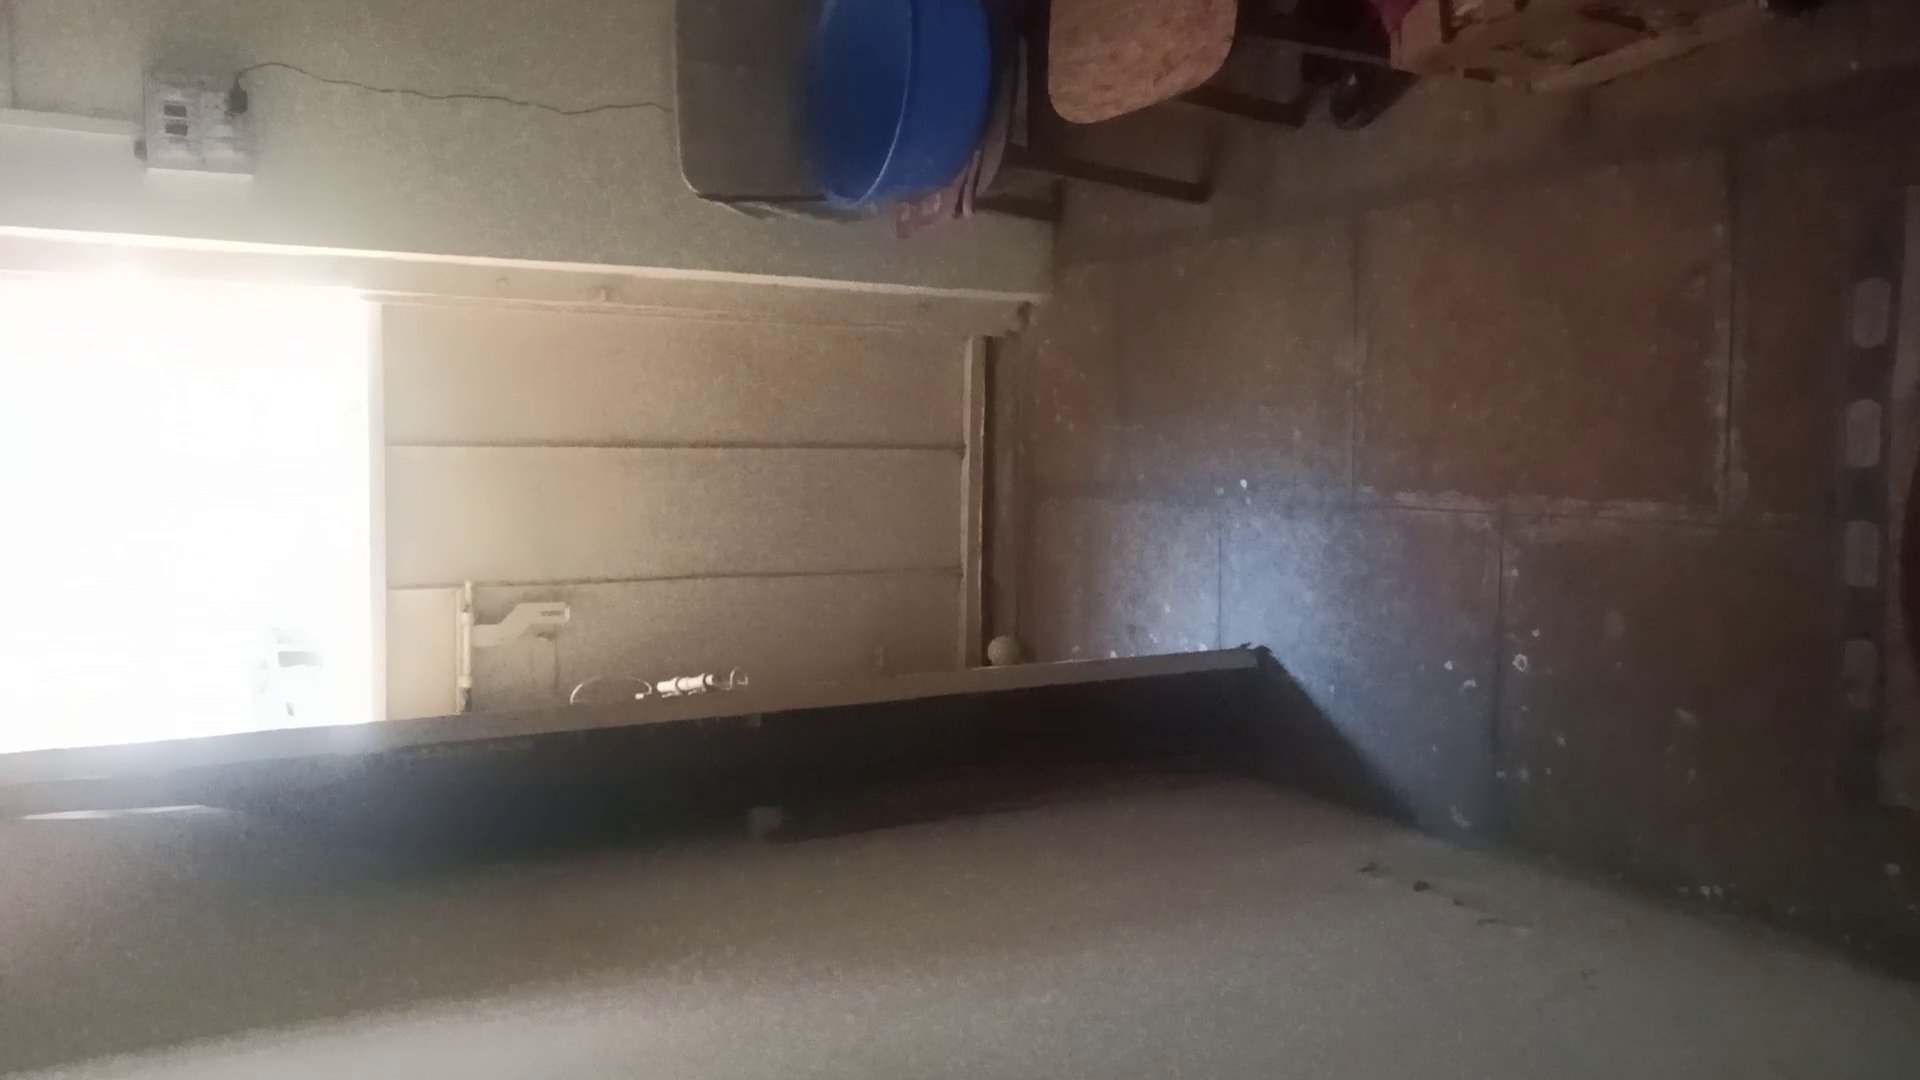Tennis-Ball: (985, 638, 1019, 665)
